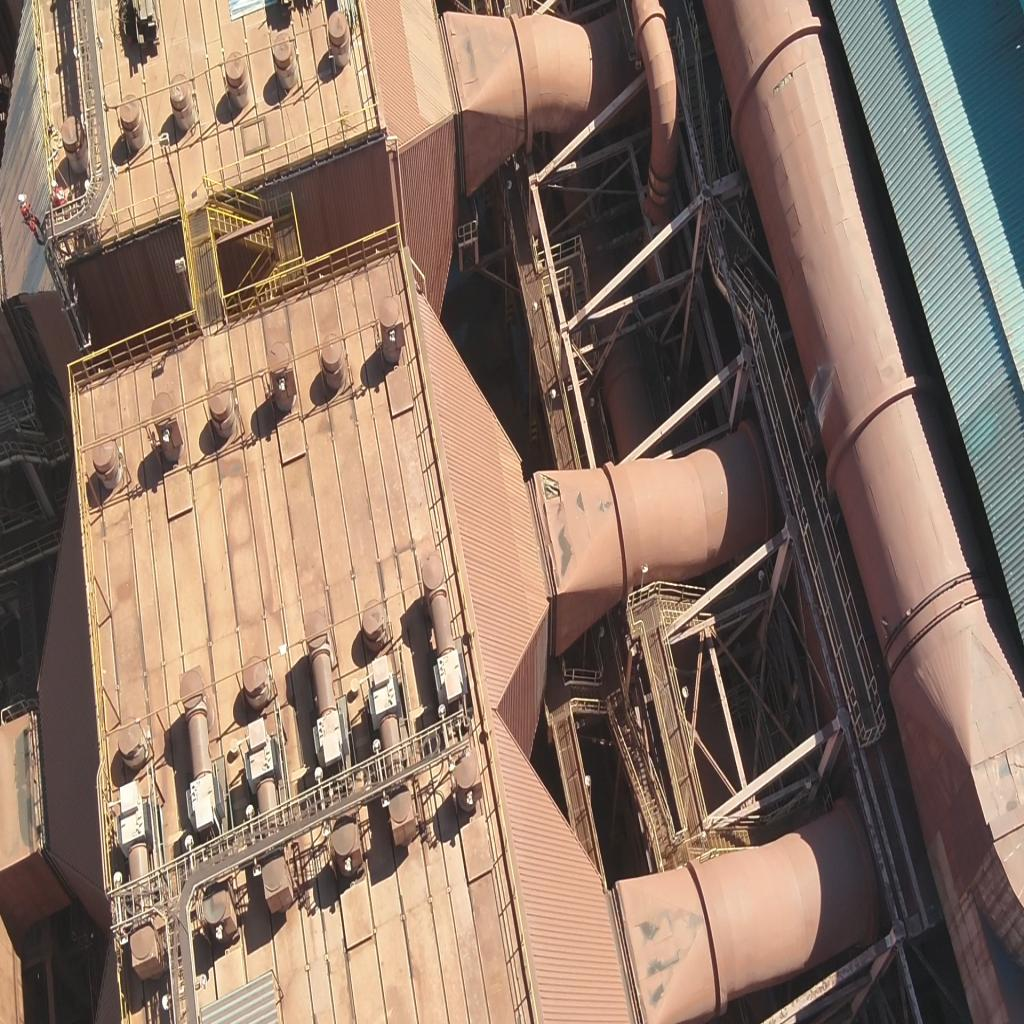Failures: (542, 474, 561, 501)
